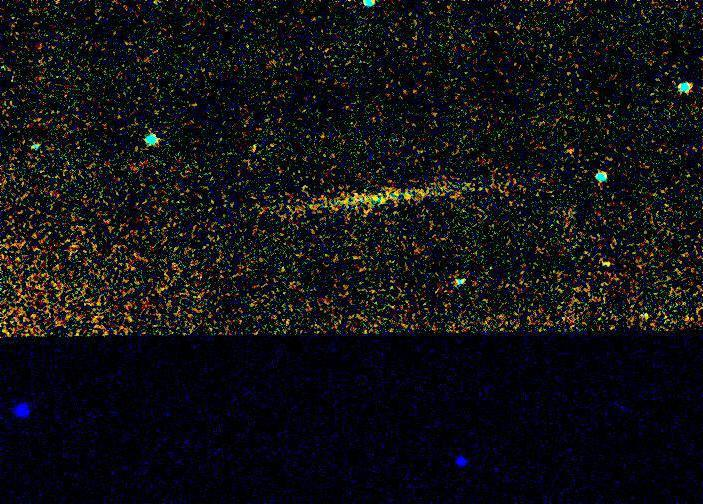star: (557, 135, 587, 165)
